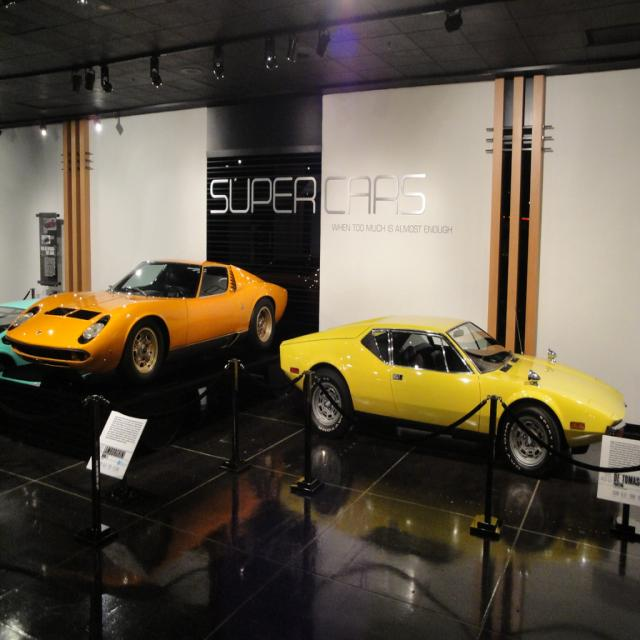other: (276, 310, 631, 478), (3, 259, 291, 383), (0, 300, 39, 380)
